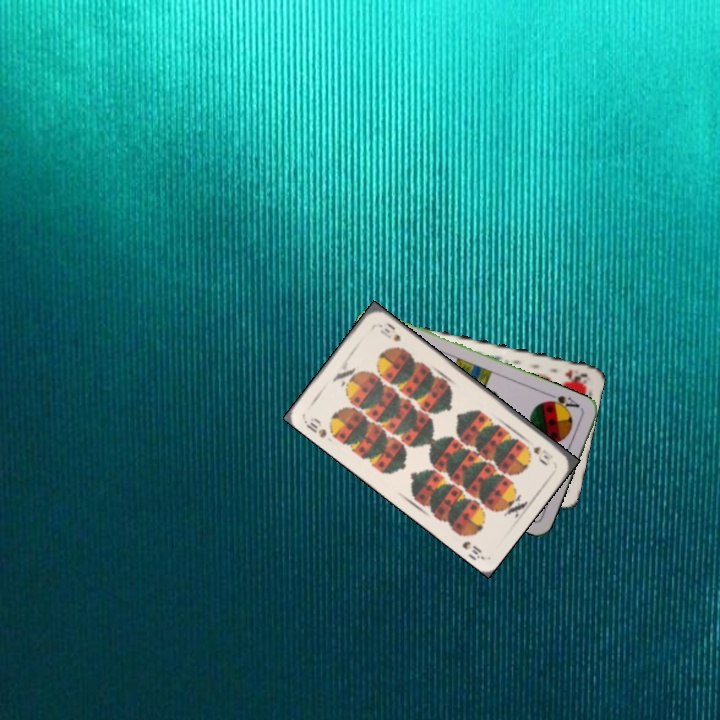HK: (560, 365, 589, 385)
S10: (300, 413, 329, 441), (529, 441, 556, 462)
SA: (543, 390, 584, 414)
